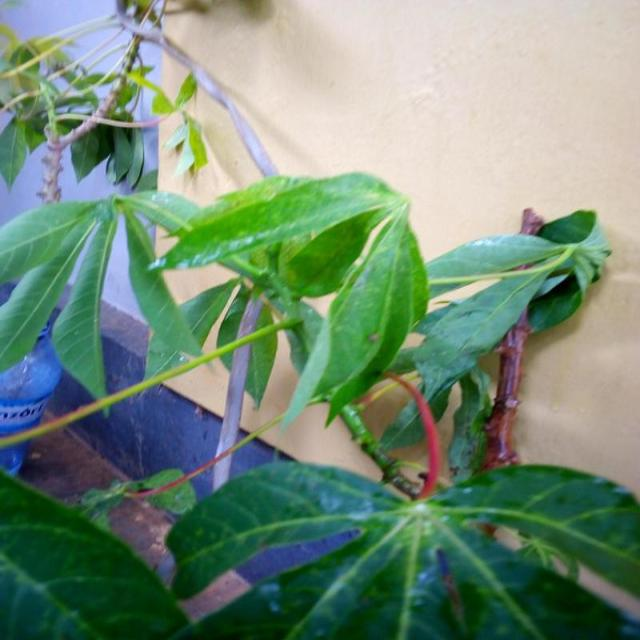cassava leaf: (165, 457, 638, 638), (131, 168, 430, 429), (0, 464, 190, 638)
